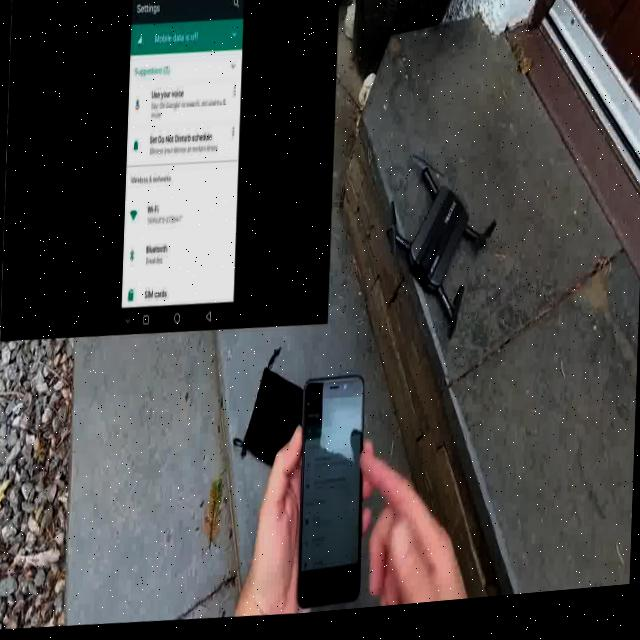drone: (360, 124, 516, 385)
